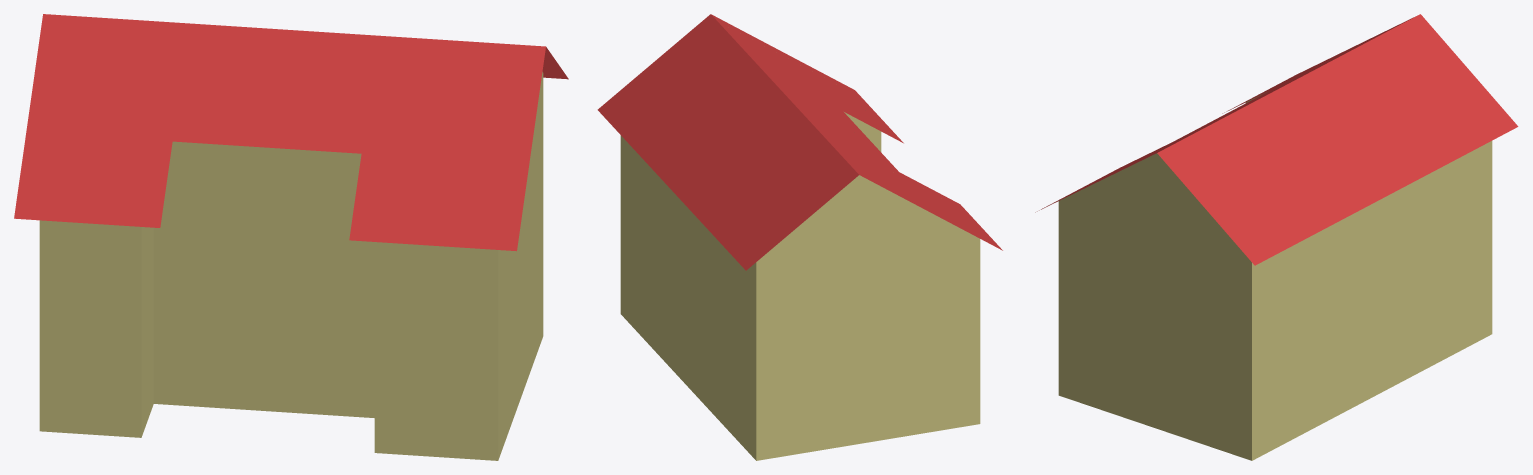
3 views of the same model, side by side, from view 1: azimuth 30°, elevation 25°; view 2: azimuth 150°, elevation 25°; view 3: azimuth 270°, elevation 25° (orthographic). The views are drawn at different scales.
Visible parts, largest first — view 1: group_5, group_3, group_4; view 2: group_5, group_3, group_4; view 3: group_5, group_3, group_4.
Boxes of the visible parts, x1,y1,x2,y2 form: group_5: [39, 72, 543, 460]; group_3: [14, 14, 568, 250]; group_4: [43, 14, 545, 250]; group_5: [620, 112, 980, 460]; group_3: [621, 14, 1002, 270]; group_4: [597, 14, 973, 270]; group_5: [1058, 92, 1492, 460]; group_3: [1042, 15, 1517, 242]; group_4: [1037, 14, 1517, 265].
Bounding box in the file's own units: 20.46 × 19.6 × 12.72.
